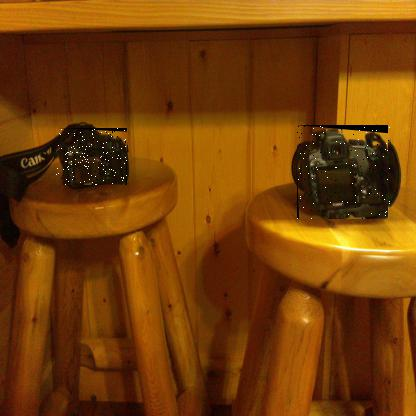Camera: (299, 126, 393, 221), (58, 129, 130, 187)
